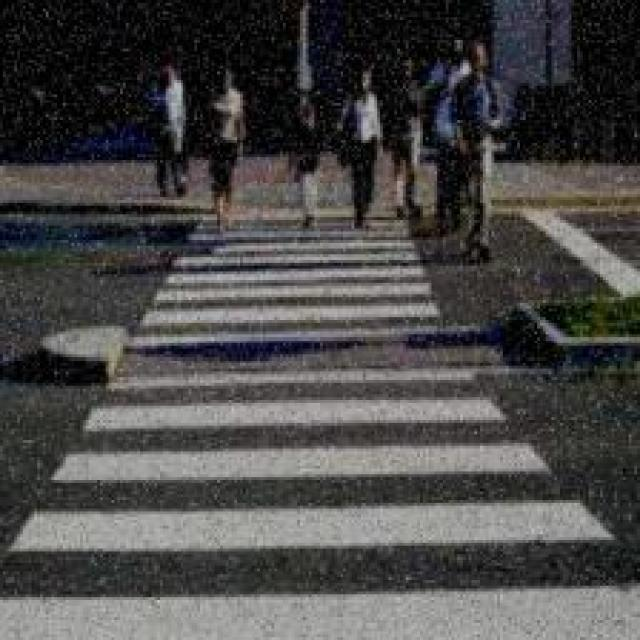crosswalk: (3, 208, 640, 636)
